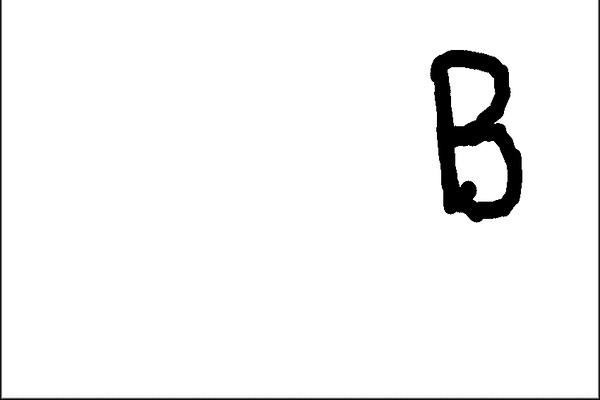B: (422, 45, 529, 229)
